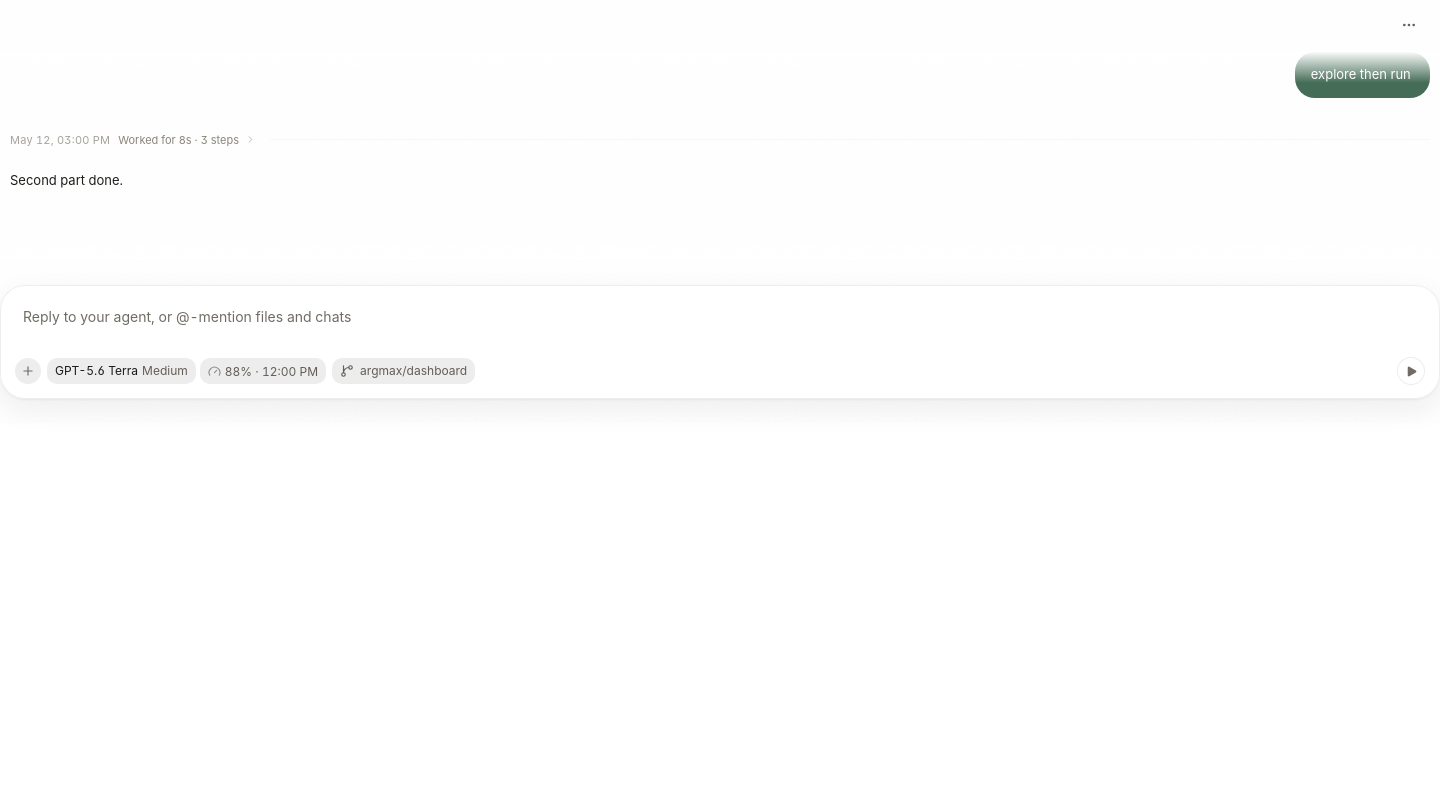
SessionConversation — single-line activity mode › collapses all tools between two replies into exactly one summary line
Expected: the text "git status --short" is not shown
Expected: the button "Thought" is not shown
What coordinates should you click on to do the following:
click the button "Worked for 8s · 3 steps"
I would click on:
 (190, 140)
Its box is [118, 132, 262, 148].
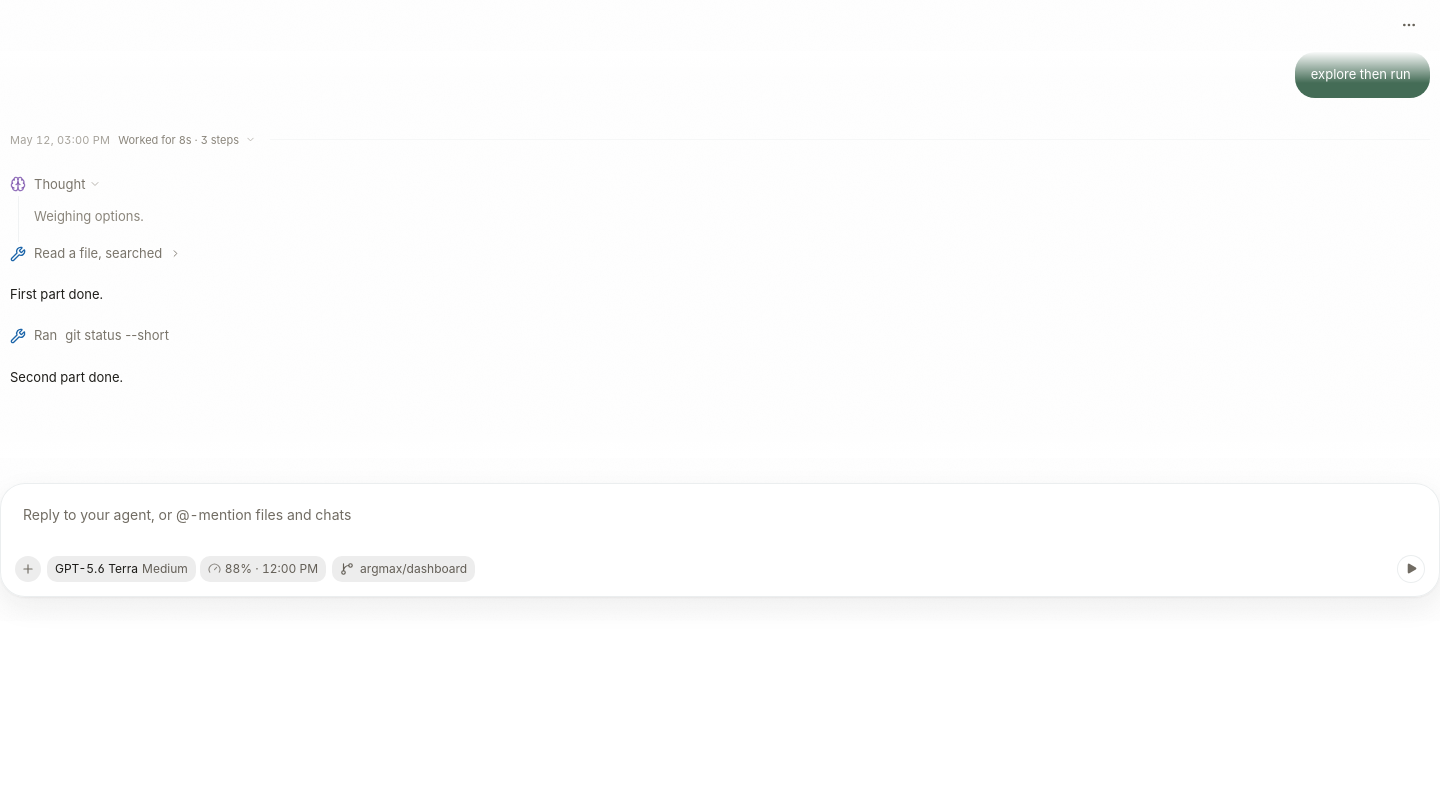
Result: the text "First part done." is shown at [10, 286, 103, 302]
Result: the number of buttons "Read a file, searched" is 1
Result: the text "git status --short" is shown at [65, 326, 169, 345]
// Clicking the line reveals the per-tool rows for that gap only.
What coordinates should you click on to do the following:
click the button "Read a file, searched"
I would click on:
 (50, 253)
Its box is [10, 240, 1430, 268].
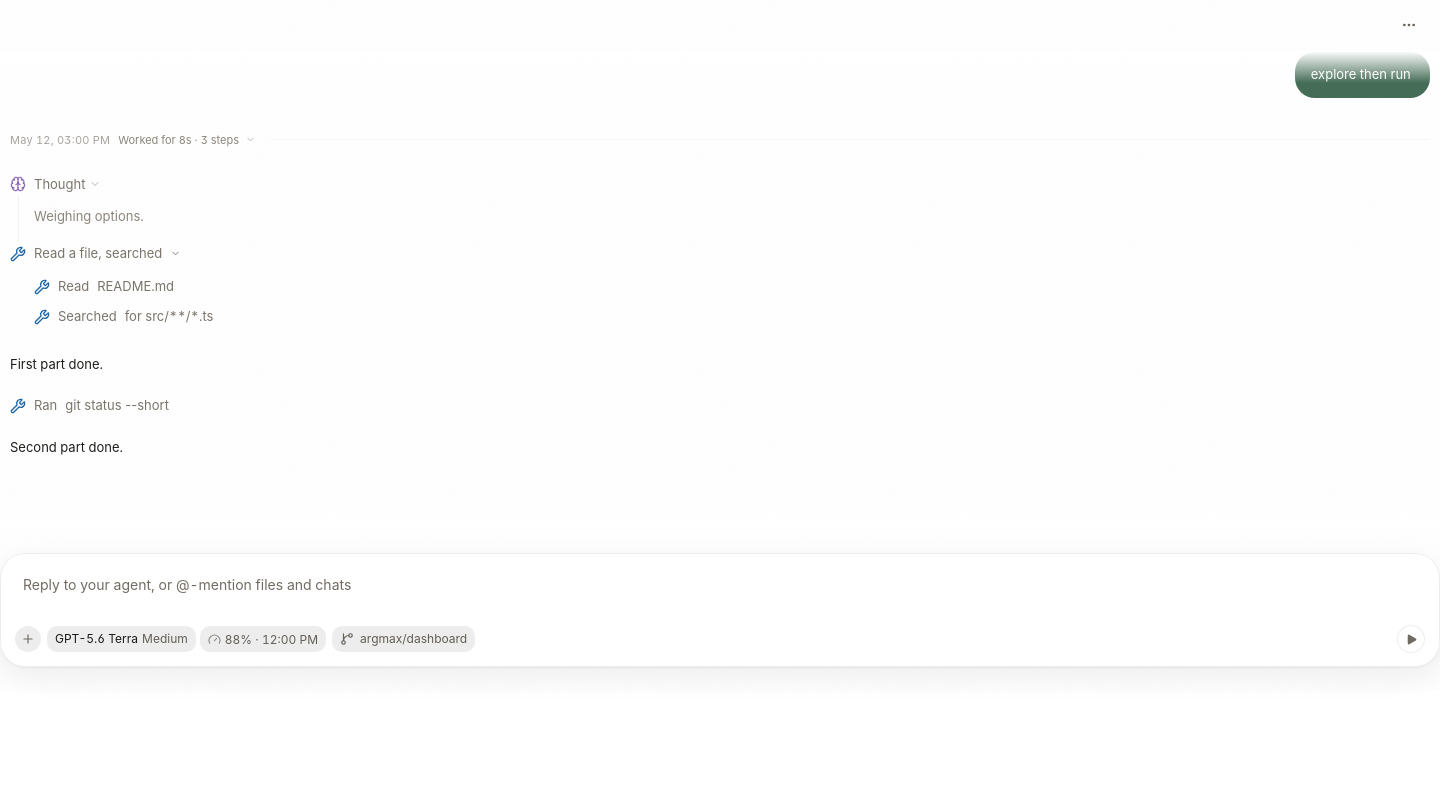
Result: the button "Read README.md" is shown at [34, 272, 1430, 302]
Result: the button "Searched for src/**/*.ts" is shown at [34, 302, 1430, 332]
